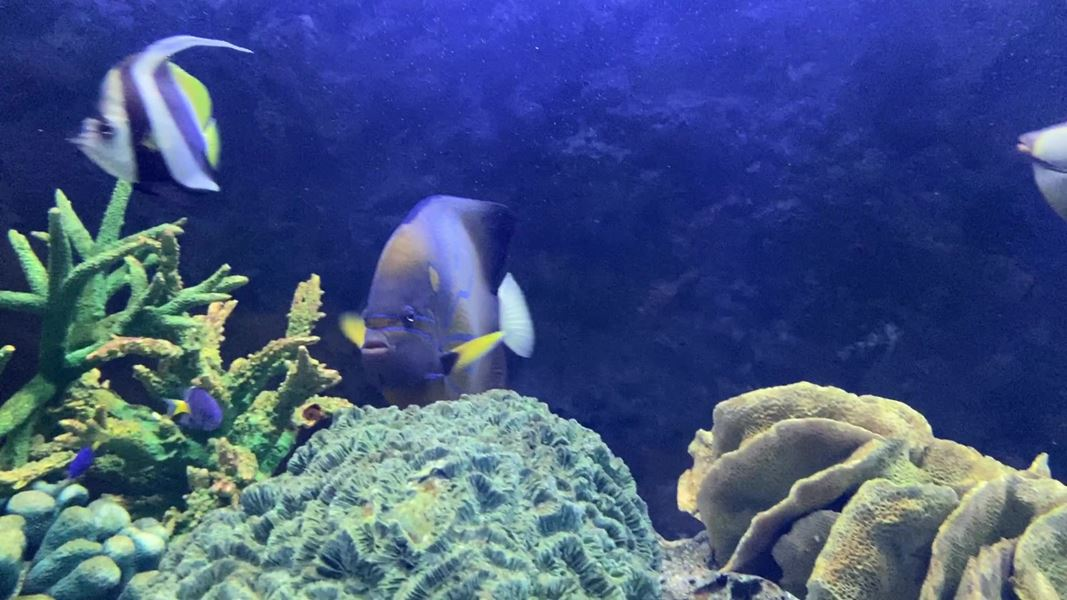Blue ring angelfish: (330, 181, 563, 427)
